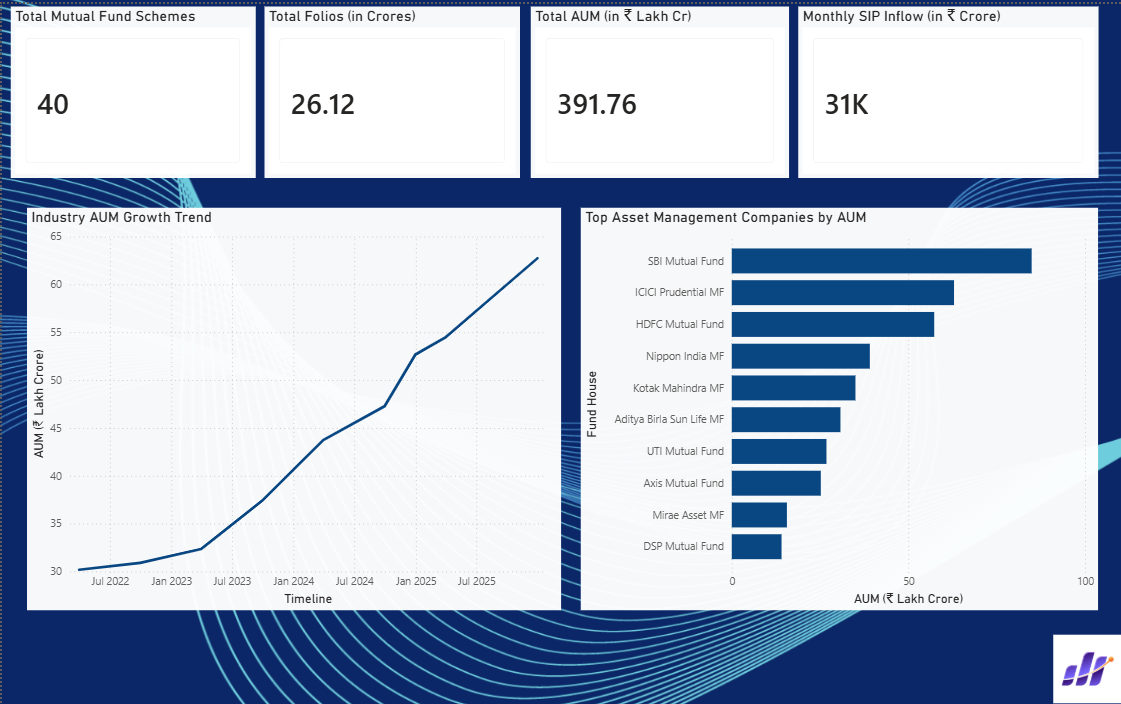

The dashboard page shown, as its layout file describes it:
{"tool":"powerbi","page":{"name":"Industry Overview","canvas":[1280,800],"ordinal":0},"visuals":[{"type":"cardVisual","title":"Total Mutual Fund Schemes","fields":{"Data":["Count(processed_01_fund_master.amfi_code)"]},"box":[9.6,2.7,279.9,196.2],"z":0},{"type":"cardVisual","title":"Total AUM (in ₹ Lakh Cr)","fields":{"Data":["Sum(processed_03_aum_by_fund_house.aum_lakh_crore)"]},"box":[603.8,2.7,295,196.2],"z":1000},{"type":"cardVisual","title":"Monthly SIP Inflow (in ₹ Crore)","fields":{"Data":["Max(processed_04_monthly_sip_inflows.sip_inflow_crore)"]},"box":[909.8,2.7,343.1,196.2],"z":2000},{"type":"cardVisual","title":"Total Folios (in Crores)","fields":{"Data":["Max(processed_06_industry_folio_count.total_folios_crore)"]},"box":[300.5,2.7,292.3,196.2],"z":3000},{"type":"lineChart","title":"Industry AUM Growth Trend","fields":{"Category":["processed_03_aum_by_fund_house.date"],"Y":["Sum(processed_03_aum_by_fund_house.aum_lakh_crore)"]},"box":[28.8,233.3,610.6,459.7],"z":4000},{"type":"clusteredBarChart","title":"Top Asset Management Companies by AUM","fields":{"Category":["processed_03_aum_by_fund_house.fund_house"],"Y":["Sum(processed_03_aum_by_fund_house.aum_lakh_crore)"]},"box":[661.4,233.3,591.4,459.7],"z":5000},{"type":"image","box":[1201.8,720.4,78.2,79.6],"z":5001}]}

Visuals, with their boxes in screenshot pixels (x1, y1, x2, y2), scaled from the page's 1280x800 canvas onto the 1121x704 screenshot:
"Total Mutual Fund Schemes" cardVisual: <bbox>8, 2, 254, 175</bbox>
"Total AUM (in ₹ Lakh Cr)" cardVisual: <bbox>529, 2, 787, 175</bbox>
"Monthly SIP Inflow (in ₹ Crore)" cardVisual: <bbox>797, 2, 1097, 175</bbox>
"Total Folios (in Crores)" cardVisual: <bbox>263, 2, 519, 175</bbox>
"Industry AUM Growth Trend" lineChart: <bbox>25, 205, 560, 610</bbox>
"Top Asset Management Companies by AUM" clusteredBarChart: <bbox>579, 205, 1097, 610</bbox>
image: <bbox>1053, 634, 1120, 703</bbox>
